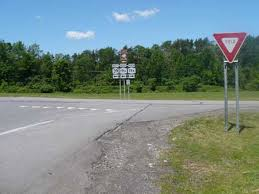yield: (211, 33, 249, 65)
